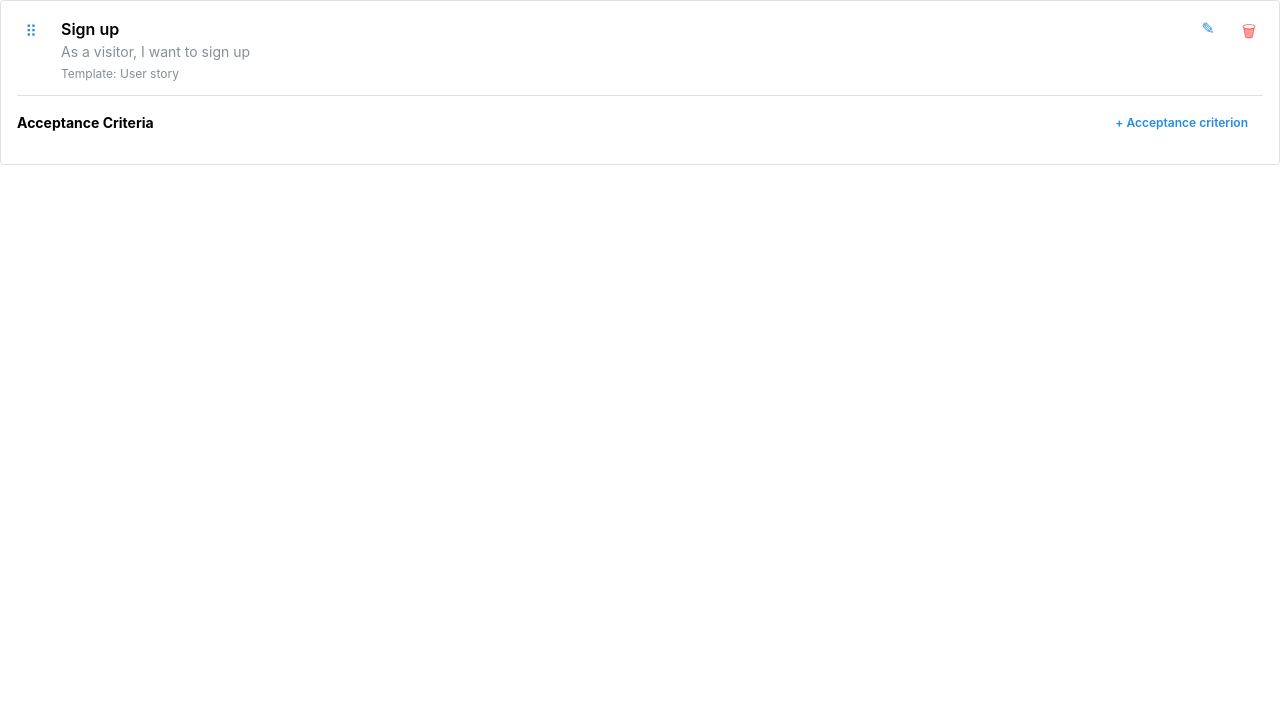
Scenario: UserStoryList › opens the "New acceptance criterion" modal from the "+ Acceptance criterion" button
This screenshot has width=1280, height=720.
Expected: the text "New acceptance criterion" is not shown
Step 1. Click the button "+ Acceptance criterion" → (1182, 123), box [1100,108,1263,138]
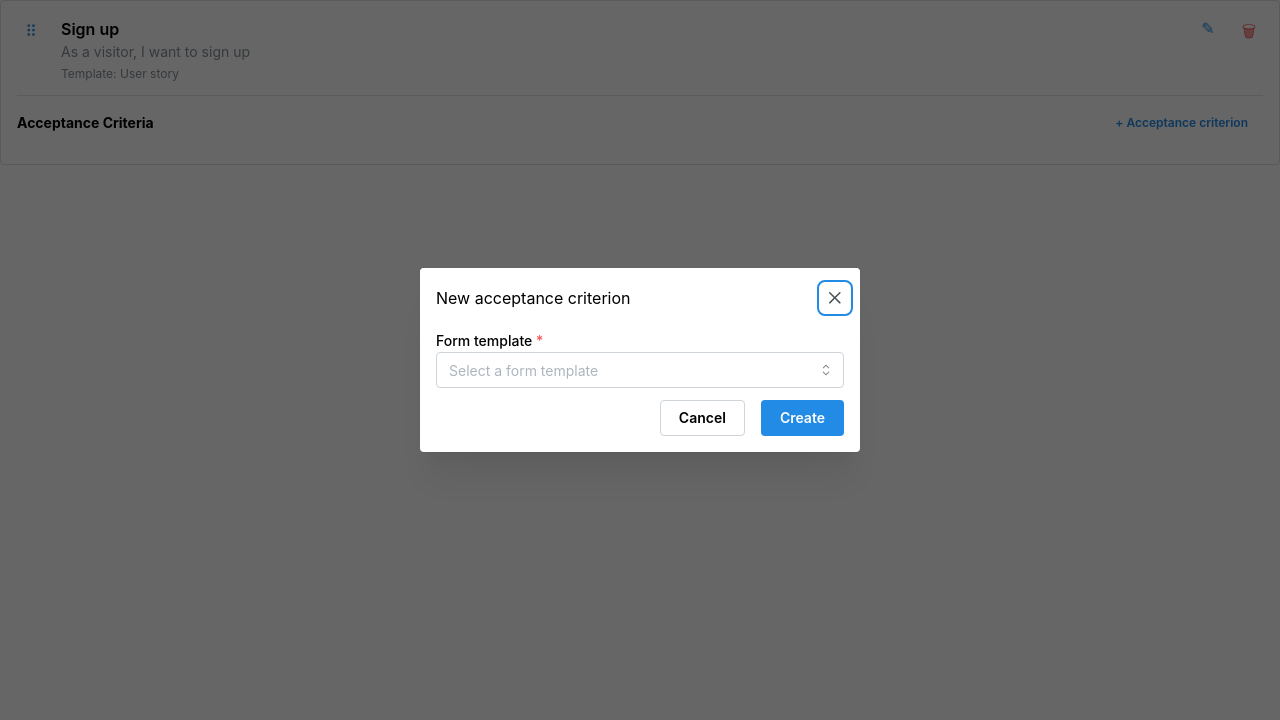
Expected: the heading "New acceptance criterion" is shown, [436,290,630,306]
